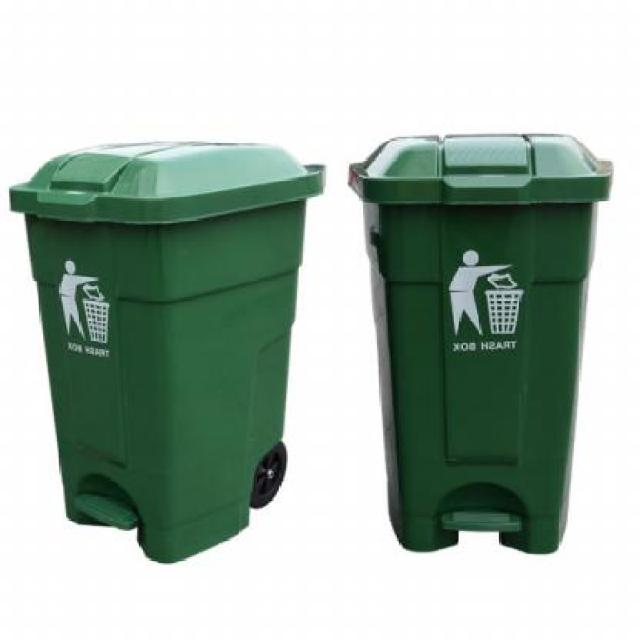garbage container: (4, 130, 342, 576), (330, 121, 622, 576)
